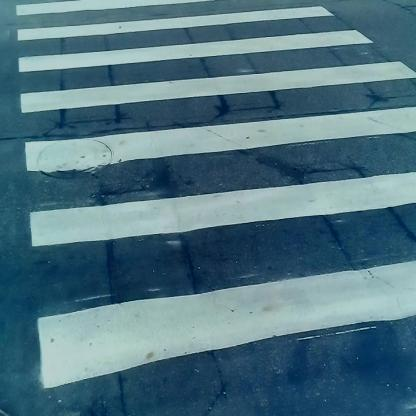crosswalk: (10, 4, 416, 368)
